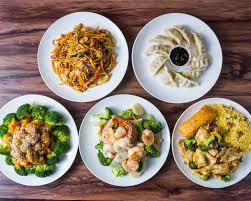Braised Crucian Carp: (77, 93, 169, 187), (130, 11, 222, 104), (37, 10, 128, 103), (169, 97, 250, 189), (0, 93, 78, 187)
